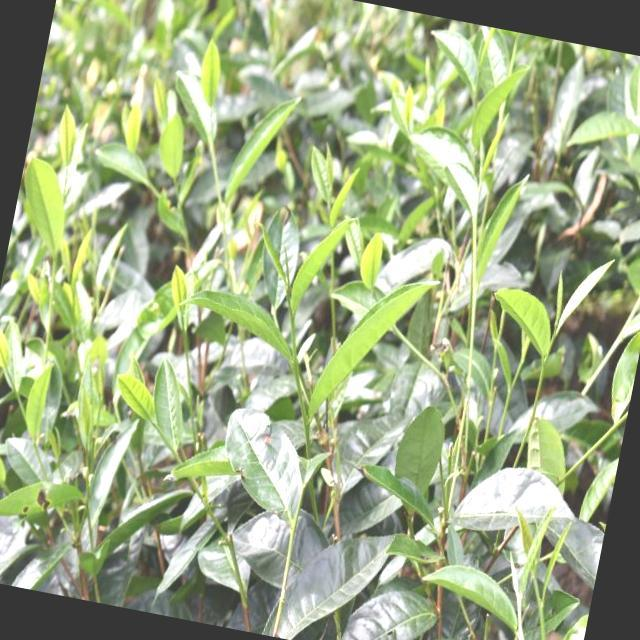Stem: (540, 367, 546, 376), (290, 315, 294, 323)
